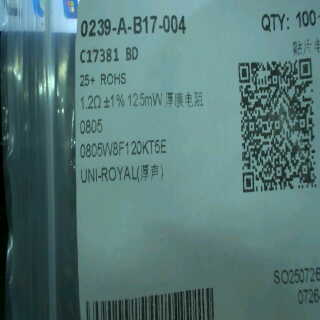1.2R: (79, 93, 104, 137)
